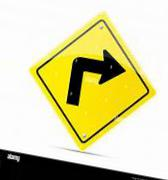right: (30, 14, 157, 151)
